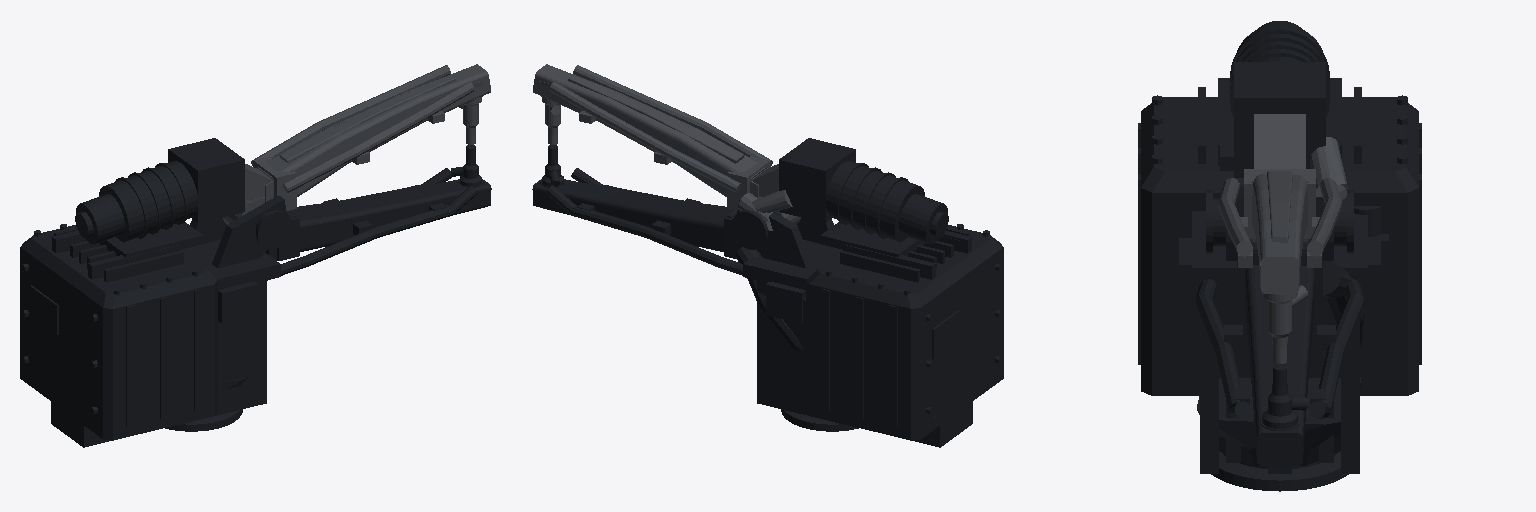
robot.urdf — weld_gun_x16005:
<?xml version="1.0"?>
<!--
  weld-gun-x16005: サーボスポットガン (X ガン / シザー式) の自作アセット (CC0-1.0)。

  ============================================================================
  参照実機: **HERON DB6-075-X16005-00** (X 型ロボットサーボガン)
    https://heron-welder.com/x-type-robotic-welding-gun-with-servo-actuator/
    (メーカー公式ページの型番別スペック表。weld-gun-xr637 がストローク出典に使った
     DB6-110-C16027 と同じ型番体系 = 同一カタログ族)
  ============================================================================

  **これは DB6-075-X16005-00 の複製ではない。** 外観 (溶接構造・トランス筐体・
  配管取り回し) はすべて独自著作で、参照実機からは**公表されている数値だけ**を
  採っている:

  - **アーム寸法 384 x 160** → のど深さ 384 mm / アーム開口 160 mm @電極軸
  - **最大ストローク 179 mm** → electrode_joint 上限 0.446 rad で先端移動 179 mm
  - **最大加圧力 3900 N** → effort 1650 Nm (3.9 kN x 電極までの腕 0.422 m)
  - **総質量 95.5 kg** (body 78.5 + electrode_arm 17)
  - **トランス 75 kVA** (MFDC 一体型として造形) / 最大電流 20 kA は照合値

  参照実機の公表に無い部分は公開規格で補完:
  - **電極キャップ = ISO 5821 Type F, 16 x 20** (d1=16, l1=20, R1=40, テーパ 1:10)。
    同規格 ⌀16 の Fmax 4.0 kN >= 3900 N で参照実機の加圧力と整合する
  意図的に変えた点:
  - q=0 で電極間 5 mm クリアランス (実機は閉で接触。自己干渉のないゼロ姿勢を
    保つためのモデリング都合)
  - 外装は独自著作のデフォルメで、参照実機の包絡 L x H x W 1161 x 532 x 302 とは
    一致させていない (本モデルは全長 820 mm 級)
  検証 (参照ではない):
  - 質量・重心が FANUC R-2000iC/165F の手首許容値に収まることを確認済み

  visual: tools/generate_meshes.py が生成する ../meshes/*.stl (手続き的著作、
          寸法定数はスクリプト冒頭の GEOMETRY ブロックに集約)。実測は
          tools/measure_throat.py で再現できる
  collision: URDF プリミティブのみ。**のど (throat) の開口を保つのが目的**で、
          builder はプリミティブを素通しするため VHACD で開口が塞がれない。
          テーパーしたアームは 2 本の円柱で近似し、先端側を細くして開口を稼ぐ。
          可撓物 (ホース・キックレスケーブル) と機体内部のテールには collision 無し

  慣例 (botrail カタログ):
  - Z-up / メートル。root リンク mount = フランジ接触面 (+Z がツール内側)。
    attach_tool はツールを root で溶接する
  - tcp = 固定電極先端 (body 側の固定リンク)
  - electrode_joint は正方向 = 開 (q=0 で電極間 5 mm、q=0.446 rad で先端 179 mm 移動)
-->
<robot name="weld_gun_x16005">
  <link name="mount"/>

  <link name="body">
    <!--
      色: STL は材質を持てないので外観はここで述べる (述べないと消費側が既定
      パレットで塗り、同じ製品でもシーン内の並び順で色が変わる)。参照実機の
      公表資料に塗色の記載は無いので実機の塗装は主張せず、この種のガンとして
      素直な地色を著作する: 塗装された機体 + 素地のままの可動アーム。
      電極キャップ (ISO 5821 Type F) は銅合金だが、いまは可動アーム側の
      メッシュに含まれていて塗り分けられない (分けるなら generate_meshes.py で
      別メッシュにし、tools/measure_throat.py の読み先も直す)。
      数値は **linear** で渡る (studio は LinearSRGB として読む)。
    -->
    <visual>
      <geometry><mesh filename="../meshes/body.stl"/></geometry>
          <material name="painted_machine_grey"><!-- 塗装された機体 (サーボ + トランス周り) -->
        <color rgba="0.16 0.17 0.19 1.0"/>
      </material>
</visual>

    <!-- フランジ板 + 取付ブラケット (溶接構造) -->
    <collision>
      <origin xyz="0.010 0 0.145"/>
      <geometry><box size="0.215 0.195 0.290"/></geometry>
    </collision>
    <!-- MFDC トランス (冷却フィン・端子箱を含む包絡) -->
    <collision>
      <origin xyz="-0.140 0 0.175"/>
      <geometry><box size="0.250 0.320 0.345"/></geometry>
    </collision>
    <!-- サーボ + ボールねじ (可動テールと干渉しないよう前端を -0.02 で止める) -->
    <collision>
      <origin xyz="-0.120 0 0.402"/>
      <geometry><box size="0.200 0.140 0.135"/></geometry>
    </collision>
    <!-- ピボットクレビス -->
    <collision>
      <origin xyz="0.115 0 0.335" rpy="1.5707963268 0 0"/>
      <geometry><cylinder radius="0.038" length="0.160"/></geometry>
    </collision>
    <!-- 固定アーム 根元側 / 先端側 (のど下面。テーパーに合わせて 2 段) -->
    <collision>
      <origin xyz="0.260 0 0.284" rpy="0 1.6072 0"/>
      <geometry><cylinder radius="0.036" length="0.220"/></geometry>
    </collision>
    <collision>
      <origin xyz="0.461 0 0.276" rpy="0 1.6075 0"/>
      <geometry><cylinder radius="0.026" length="0.202"/></geometry>
    </collision>
    <!-- 固定電極 ホルダ + ISO 5821 F16x20 キャップ (上向き、先端 = tcp) -->
    <collision>
      <origin xyz="0.537 0 0.316"/>
      <geometry><cylinder radius="0.020" length="0.048"/></geometry>
    </collision>
    <collision>
      <origin xyz="0.537 0 0.350"/>
      <geometry><cylinder radius="0.009" length="0.020"/></geometry>
    </collision>

    <inertial>
      <!-- 溶接構造 + MFDC トランス + サーボ駆動。慣性は collision プリミティブ群を
           一様密度で質量 78.5 kg にスケールして算出 (r2 の 78 kg から +0.5 kg。
           分布はほぼ不変なのでテンソルは据え置き) -->
      <origin xyz="-0.079 0 0.192"/>
      <mass value="78.5"/>
      <inertia ixx="1.50" ixy="0" ixz="0" iyy="2.22" iyz="0" izz="1.69"/>
    </inertial>
  </link>

  <link name="electrode_arm">
    <visual>
      <geometry><mesh filename="../meshes/electrode_arm.stl"/></geometry>
          <material name="bare_steel"><!-- 素地の可動アーム -->
        <color rgba="0.32 0.33 0.35 1.0"/>
      </material>
</visual>

    <!-- 可動アーム 根元側 / 先端側。ピボット手前から始めて body クレビスと干渉させない -->
    <collision>
      <origin xyz="0.138 0 0.072" rpy="0 1.271 0"/>
      <geometry><cylinder radius="0.032" length="0.200"/></geometry>
    </collision>
    <collision>
      <origin xyz="0.336 0 0.122" rpy="0 1.371 0"/>
      <geometry><cylinder radius="0.024" length="0.226"/></geometry>
    </collision>
    <!-- 可動電極 ホルダ + ISO 5821 F16x20 キャップ (下向き) -->
    <collision>
      <origin xyz="0.422 0 0.084"/>
      <geometry><cylinder radius="0.020" length="0.068"/></geometry>
    </collision>
    <collision>
      <origin xyz="0.422 0 0.040"/>
      <geometry><cylinder radius="0.009" length="0.020"/></geometry>
    </collision>

    <inertial>
      <origin xyz="0.250 0 0.093"/>
      <mass value="17"/>
      <inertia ixx="0.016" ixy="0" ixz="0" iyy="0.260" iyz="0" izz="0.251"/>
    </inertial>
  </link>

  <link name="tcp"/>

  <joint name="body_joint" type="fixed">
    <parent link="mount"/>
    <child link="body"/>
  </joint>

  <joint name="electrode_joint" type="revolute">
    <origin xyz="0.115 0 0.335"/>
    <parent link="body"/>
    <child link="electrode_arm"/>
    <axis xyz="0 -1 0"/>
    <!-- effort: 電極力 3.9 kN (参照実機の最大加圧力) x 電極までの腕 0.422 m
         = 1.65 kNm。実機はボールねじ (テール腕 0.12 m) 経由なので
         ねじ推力 ~13.7 kN に相当 -->
    <limit lower="0" upper="0.446" effort="1650" velocity="1.2"/>
  </joint>

  <joint name="tcp_joint" type="fixed">
    <origin xyz="0.537 0 0.360"/>
    <parent link="body"/>
    <child link="tcp"/>
  </joint>
</robot>

--- What the picture shows (computed from the rendered views, not written in the file) ---
The picture shows the robot from 3 angles, left to right: view 1: azimuth 30°, elevation 25°; view 2: azimuth 150°, elevation 25°; view 3: azimuth 270°, elevation 25°; orthographic projection.
Robot: weld_gun_x16005 — 4 links, 3 joints (1 revolute, 2 fixed); root link mount; default pose: all joints at 0.
Visible links, largest first — view 1: body, electrode_arm; view 2: body, electrode_arm; view 3: body, electrode_arm.
Boxes of the visible links, x1,y1,x2,y2 form: body: [20, 138, 491, 447]; electrode_arm: [223, 64, 490, 224]; body: [532, 138, 1003, 447]; electrode_arm: [533, 64, 800, 230]; body: [1138, 21, 1421, 491]; electrode_arm: [1218, 114, 1347, 363].
Bounding box of the posed robot: 0.8235 × 0.306 × 0.4997 m (x, y, z).
2 mesh visuals loaded from 2 distinct referenced files (2 binary STL).
